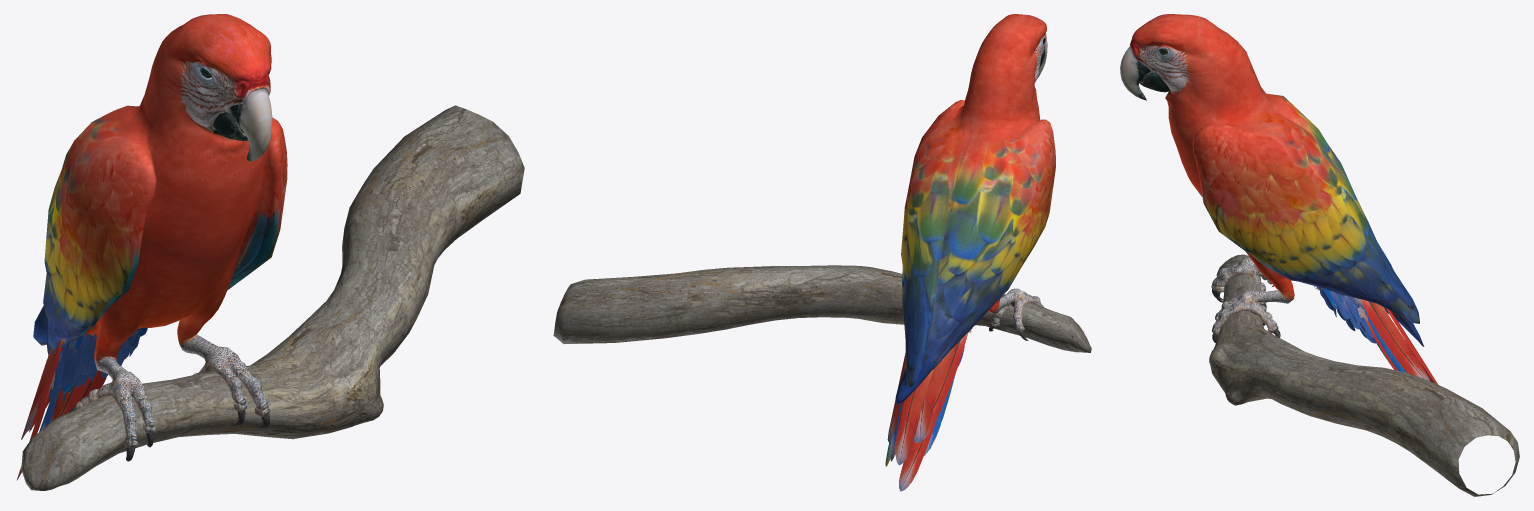
Rendered from macaw.glb.
3 renders of one model, left to right at view 1: azimuth 30°, elevation 25°; view 2: azimuth 150°, elevation 25°; view 3: azimuth 270°, elevation 25°, orthographic. The views are drawn at different scales.
Parts seen in each view (by area): view 1: Blue_Gold_Macaw_Base, Macaw_Wood, Scaarlet_Macaw_Feather_10; view 2: Blue_Gold_Macaw_Base, Macaw_Wood, Scaarlet_Macaw_Feather_08, Scaarlet_Macaw_Feather_01, Scaarlet_Macaw_Feather_03, Scaarlet_Macaw_Feather_06; view 3: Blue_Gold_Macaw_Base, Macaw_Wood, Scaarlet_Macaw_Feather_02.
Part boxes in pixels (box(x1,y1,x2,y2)): Blue_Gold_Macaw_Base: box(33, 14, 287, 461); Macaw_Wood: box(21, 105, 524, 490); Scaarlet_Macaw_Feather_10: box(52, 376, 90, 420); Blue_Gold_Macaw_Base: box(895, 14, 1055, 404); Macaw_Wood: box(553, 265, 1091, 352); Scaarlet_Macaw_Feather_08: box(895, 369, 933, 465); Scaarlet_Macaw_Feather_01: box(914, 328, 972, 442); Scaarlet_Macaw_Feather_03: box(915, 356, 945, 441); Scaarlet_Macaw_Feather_06: box(899, 420, 936, 491); Blue_Gold_Macaw_Base: box(1120, 14, 1424, 346); Macaw_Wood: box(1209, 254, 1519, 496); Scaarlet_Macaw_Feather_02: box(1355, 298, 1430, 381).
Bounding box in the file's own units: 85 × 74.36 × 64.7.
Materials: 4 (3 with a texture image).
